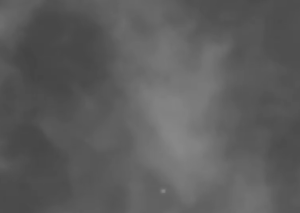Target: (162, 190, 164, 192)
